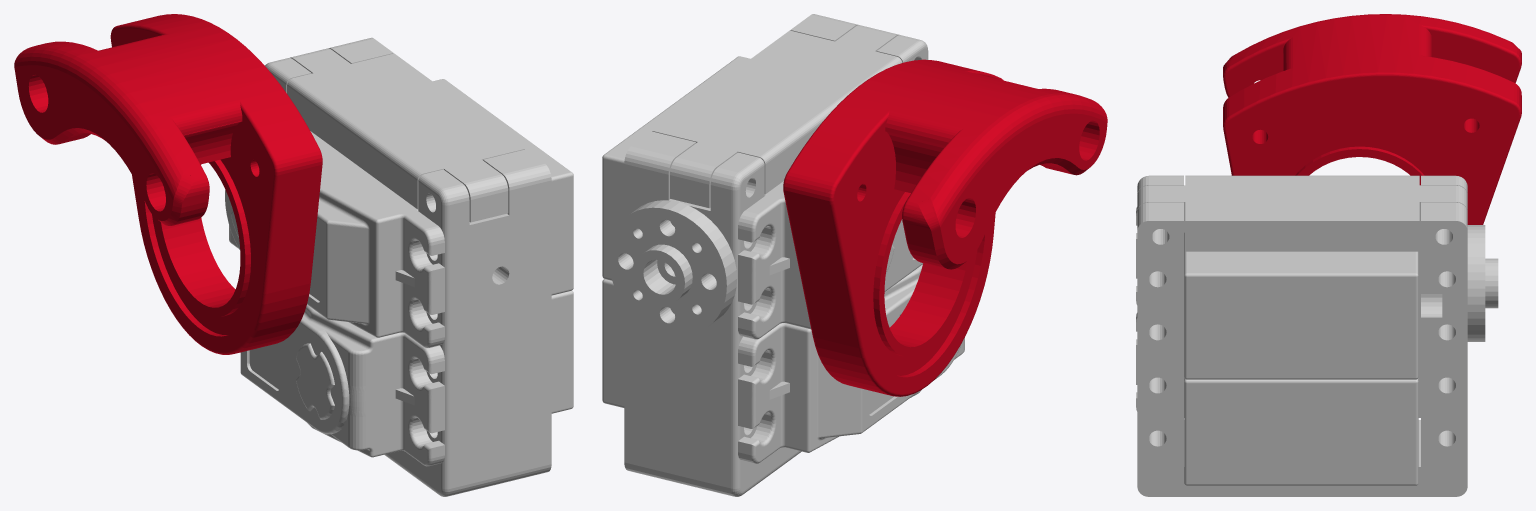
File: Yertle B Shoulder.fbx
3 renders of one model, left to right at view 1: azimuth 30°, elevation 25°; view 2: azimuth 150°, elevation 25°; view 3: azimuth 270°, elevation 25°, orthographic. The views are drawn at different scales.
Visible parts, largest first — view 1: Yertle B Shoulder; view 2: Yertle B Shoulder; view 3: Yertle B Shoulder.
Boxes of the visible parts, x1,y1,x2,y2 form: Yertle B Shoulder: [14, 14, 573, 496]; Yertle B Shoulder: [602, 14, 1107, 496]; Yertle B Shoulder: [1136, 14, 1521, 496].
Bounding box in the file's own units: 0.00658 × 0.00666 × 0.00649.
